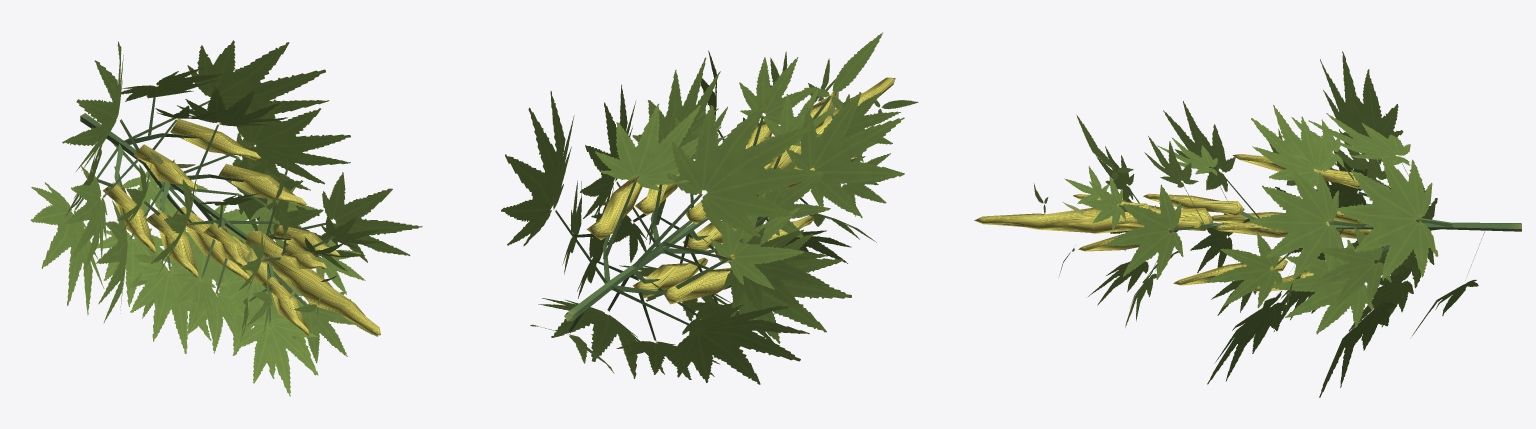
Rendered from p_gold_haze_flowering_c0_cards.obj.
3 views of the same model, side by side, from view 1: azimuth 30°, elevation 25°; view 2: azimuth 150°, elevation 25°; view 3: azimuth 270°, elevation 25° (orthographic). The views are drawn at different scales.
Size of the model in its own units: 1.38 by 1.38 by 2.03.
1 material, 1 textured.
